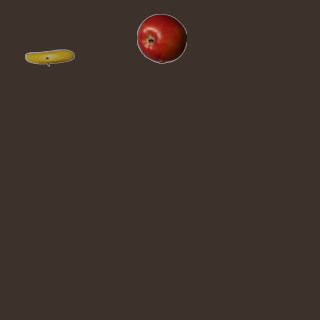Apple Braeburn: (136, 13, 186, 63)
Banana: (24, 32, 74, 82)
